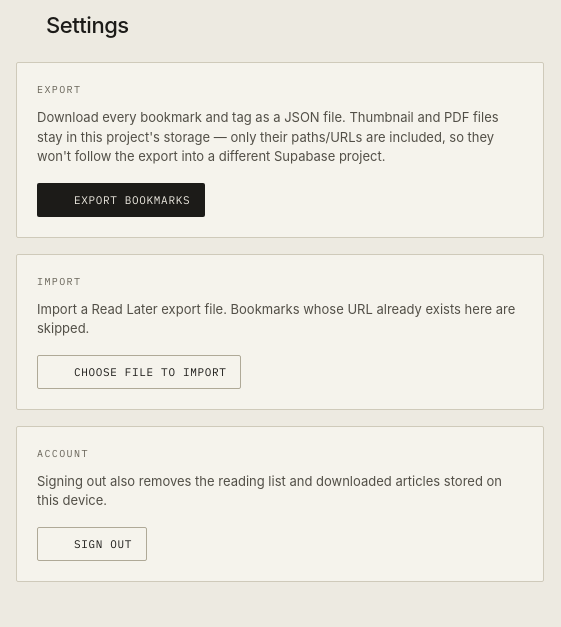
Test: SettingsView › shows a generic error when export returns no payload
Click the button with test id "export-btn" at x=121, y=200, box 37,182 -> 205,216
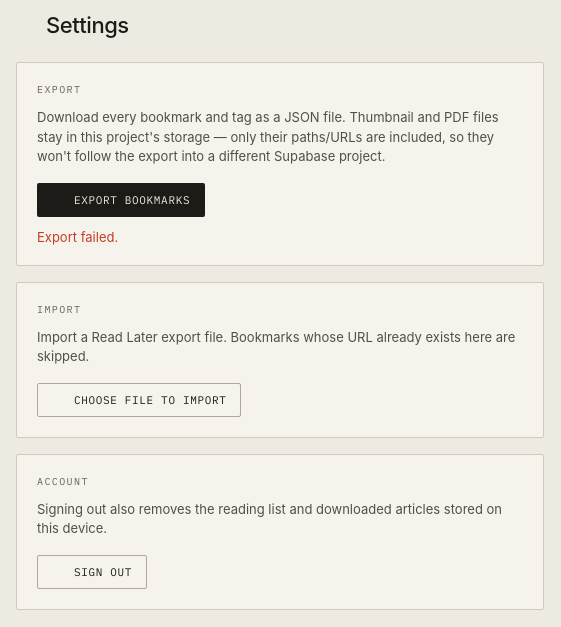
Check: the message with test id "error" reads "Export failed.", box 37,228 -> 118,244
